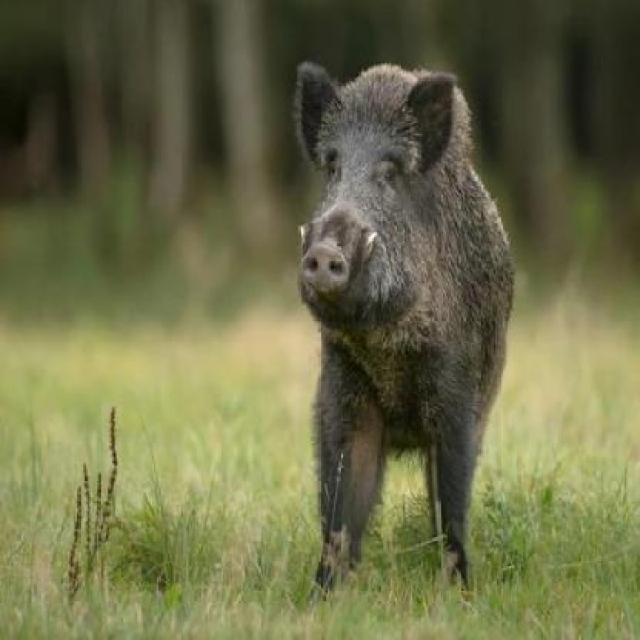wildboar: (290, 53, 518, 602)
